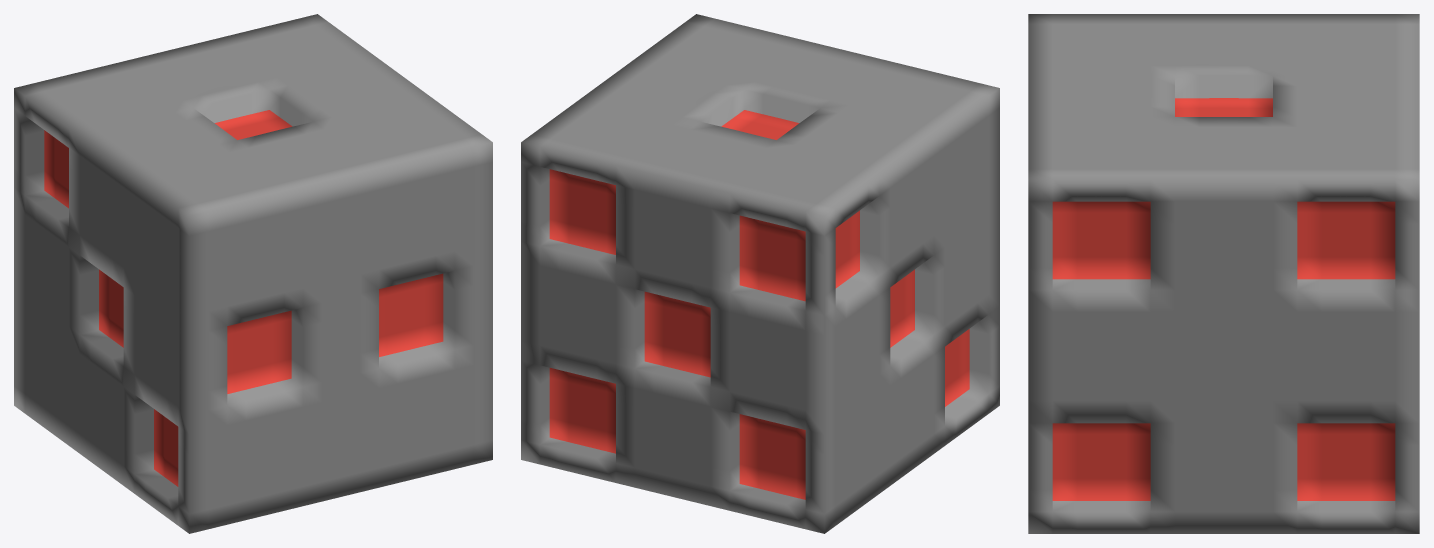
The model's file is dado4.fbx.
The picture shows the model from 3 angles, left to right: view 1: azimuth 30°, elevation 25°; view 2: azimuth 150°, elevation 25°; view 3: azimuth 270°, elevation 25°; orthographic projection. The views are drawn at different scales.
Parts seen in each view (by area): view 1: Cube; view 2: Cube; view 3: Cube.
Part boxes in pixels (bbox=[...]): Cube: bbox=[14, 14, 492, 533]; Cube: bbox=[521, 14, 999, 533]; Cube: bbox=[1028, 14, 1419, 533].
Bounding box in the file's own units: 200 × 200 × 200.
